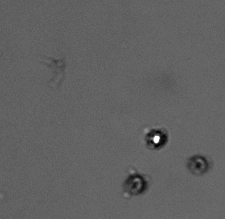Dead Cell: (125, 172, 147, 195), (188, 155, 208, 174)
Living Cell: (147, 129, 167, 147)
